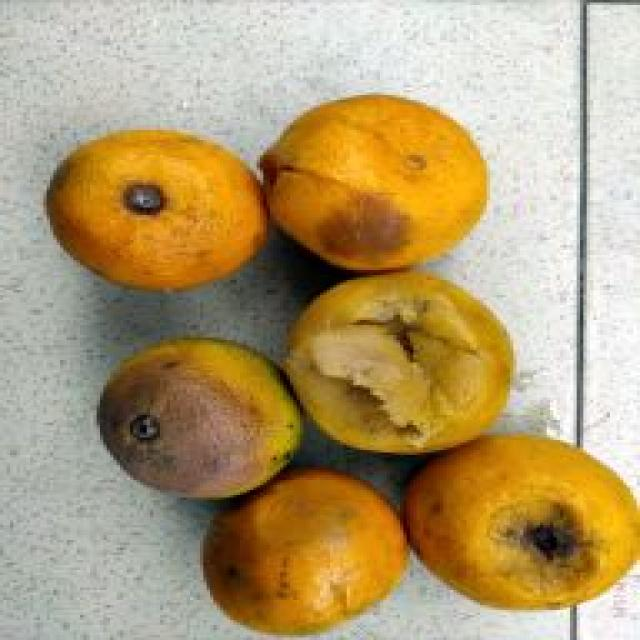Bad_Orange: (283, 271, 513, 453), (262, 95, 487, 271), (100, 339, 300, 498)
